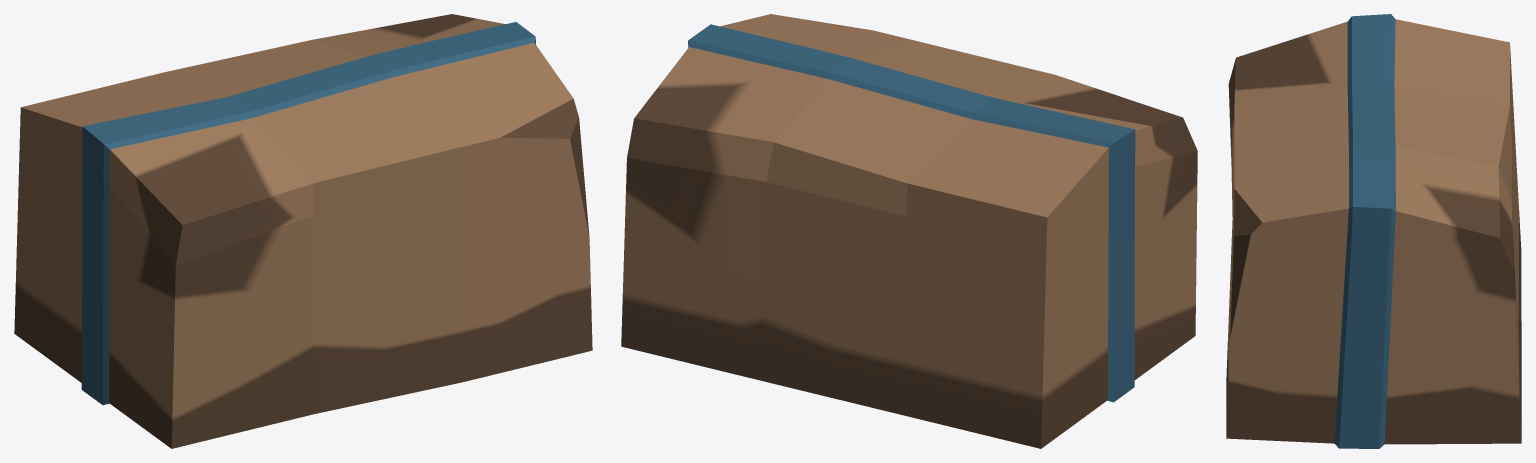
File: SM_Cardboard_Box_С.gltf
The picture shows the model from 3 angles, left to right: view 1: azimuth 30°, elevation 25°; view 2: azimuth 150°, elevation 25°; view 3: azimuth 270°, elevation 25°; orthographic projection. The views are drawn at different scales.
Parts seen in each view (by area): view 1: SM_Cardboard_Box_С; view 2: SM_Cardboard_Box_С; view 3: SM_Cardboard_Box_С.
Boxes of the visible parts, x1,y1,x2,y2 form: SM_Cardboard_Box_С: [14, 14, 592, 448]; SM_Cardboard_Box_С: [621, 14, 1197, 448]; SM_Cardboard_Box_С: [1226, 14, 1521, 448].
Size of the model in its own units: 0.7305 by 0.4238 by 0.4696.
Materials: 1 (1 with a texture image).
